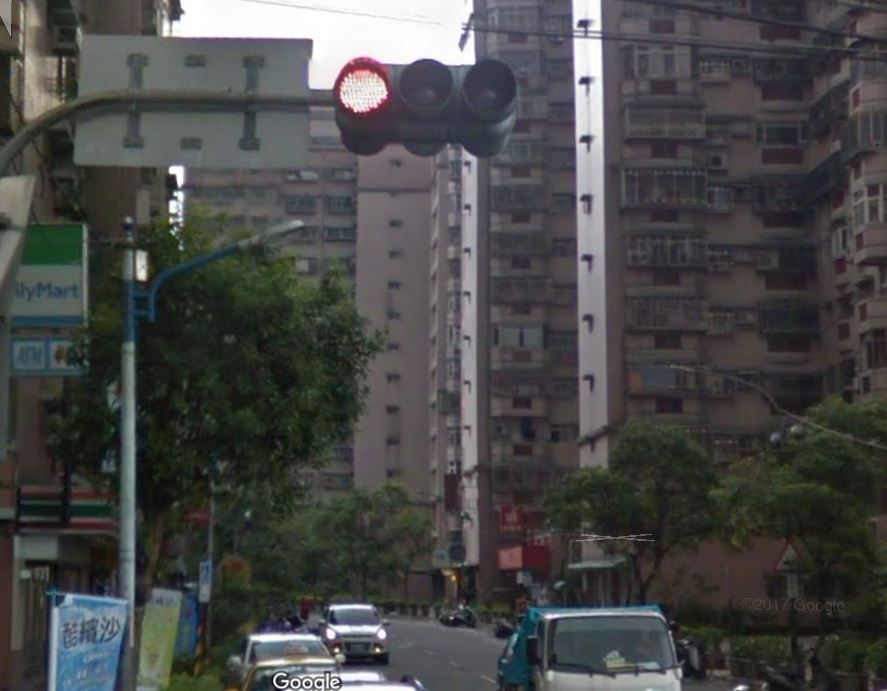Traffic_light_red: (333, 56, 520, 124)
